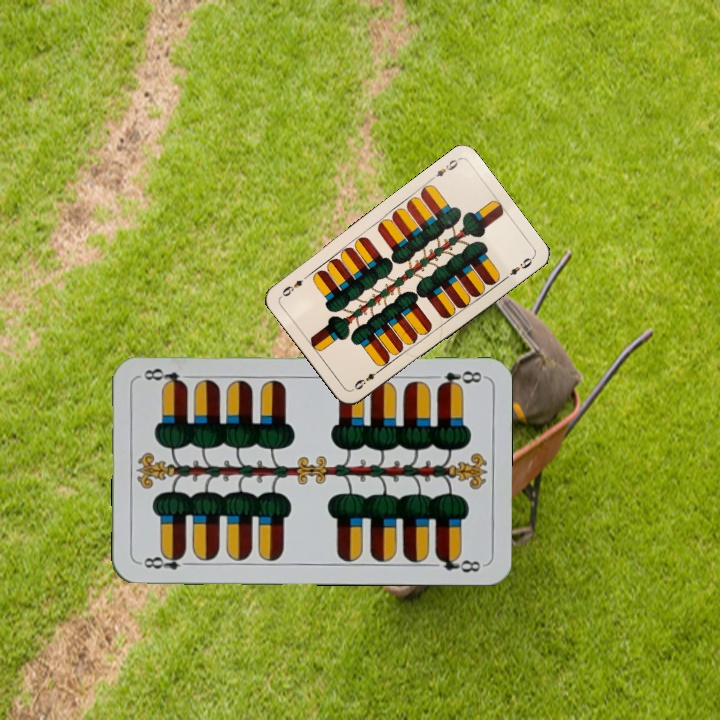E8: (136, 549, 195, 572), (434, 367, 485, 391)
E9: (427, 154, 462, 183), (350, 365, 384, 392)
